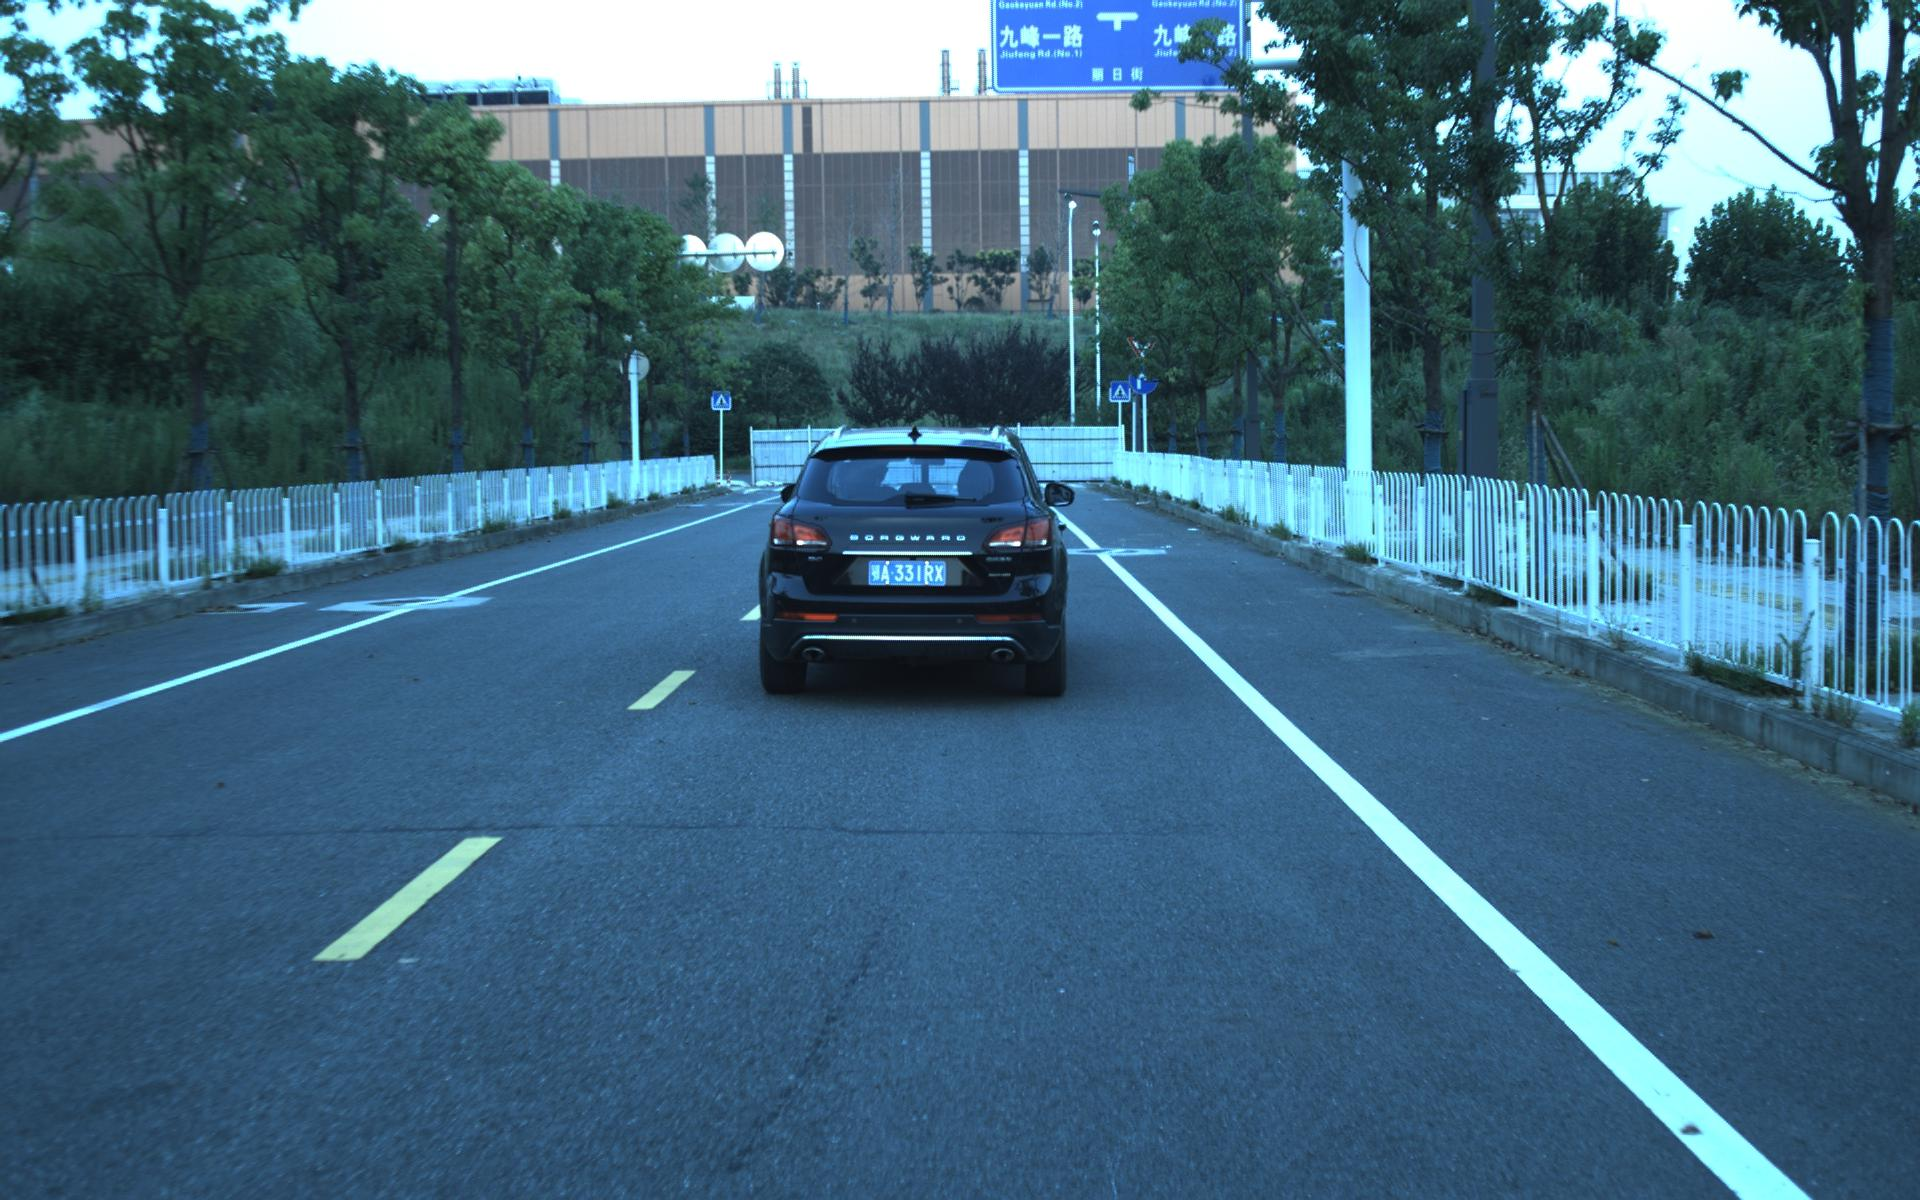Car: (753, 418, 1069, 701)
